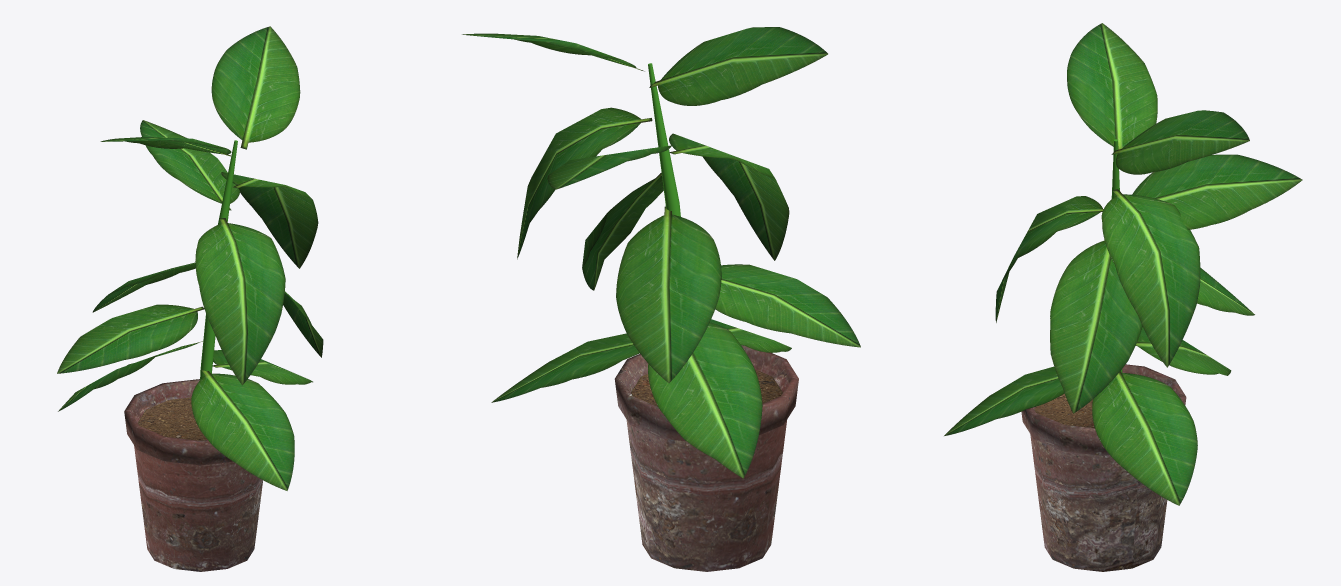
File: potted plant 01.FBX
The picture shows the model from 3 angles, left to right: view 1: azimuth 30°, elevation 25°; view 2: azimuth 150°, elevation 25°; view 3: azimuth 270°, elevation 25°; orthographic projection. The views are drawn at different scales.
Parts seen in each view (by area): view 1: potted plant 01; view 2: potted plant 01; view 3: potted plant 01.
Boxes of the visible parts, <box> form: potted plant 01: <box>57,26,323,571</box>; potted plant 01: <box>462,27,860,571</box>; potted plant 01: <box>944,23,1302,571</box>.
Size of the model in its own units: 96.57 by 123 by 87.28.
3 materials, 2 textured.
